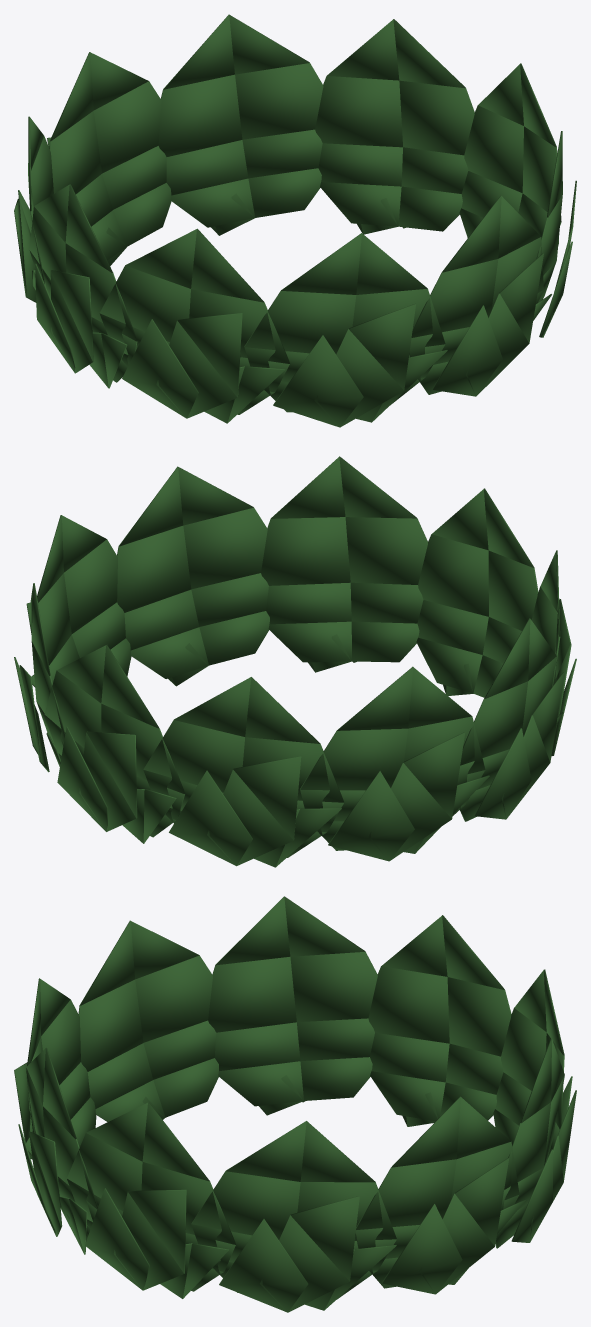
3 renders of one model, top to bottom at view 1: azimuth 30°, elevation 25°; view 2: azimuth 150°, elevation 25°; view 3: azimuth 270°, elevation 25°, orthographic.
Visible parts, largest first — view 1: Flower_024_Base_Material_0_001_007, Flower_024_Base_Material_0_001_002, Flower_024_Base_Material_0_001_008, Flower_024_Base_Material_0_001_009, Flower_024_Base_Material_0_001_006, Flower_024_Base_Material_0_001, Flower_024_Base_Material_0_001_005, Flower_024_Base_Material_0_001_003, Flower_024_Base_Material_0_001_004, Flower_024_Base_Material_0_001_001; view 2: Flower_024_Base_Material_0_001, Flower_024_Base_Material_0_001_001, Flower_024_Base_Material_0_001_006, Flower_024_Base_Material_0_001_004, Flower_024_Base_Material_0_001_008, Flower_024_Base_Material_0_001_007, Flower_024_Base_Material_0_001_005, Flower_024_Base_Material_0_001_003, Flower_024_Base_Material_0_001_002, Flower_024_Base_Material_0_001_009; view 3: Flower_024_Base_Material_0_001_005, Flower_024_Base_Material_0_001_003, Flower_024_Base_Material_0_001_004, Flower_024_Base_Material_0_001_009, Flower_024_Base_Material_0_001_001, Flower_024_Base_Material_0_001_002, Flower_024_Base_Material_0_001_007, Flower_024_Base_Material_0_001, Flower_024_Base_Material_0_001_006, Flower_024_Base_Material_0_001_008.
Part boxes in pixels (x1,y1,x2,y2): Flower_024_Base_Material_0_001_007: [158, 14, 323, 235]; Flower_024_Base_Material_0_001_002: [315, 19, 474, 234]; Flower_024_Base_Material_0_001_008: [244, 233, 447, 427]; Flower_024_Base_Material_0_001_009: [99, 228, 290, 423]; Flower_024_Base_Material_0_001_006: [47, 52, 171, 265]; Flower_024_Base_Material_0_001: [409, 195, 551, 396]; Flower_024_Base_Material_0_001_005: [29, 184, 137, 388]; Flower_024_Base_Material_0_001_003: [459, 63, 561, 238]; Flower_024_Base_Material_0_001_004: [14, 116, 53, 302]; Flower_024_Base_Material_0_001_001: [536, 131, 576, 337]; Flower_024_Base_Material_0_001: [261, 456, 427, 672]; Flower_024_Base_Material_0_001_001: [117, 466, 269, 686]; Flower_024_Base_Material_0_001_006: [143, 677, 344, 867]; Flower_024_Base_Material_0_001_004: [300, 666, 489, 861]; Flower_024_Base_Material_0_001_008: [416, 488, 538, 697]; Flower_024_Base_Material_0_001_007: [44, 645, 185, 843]; Flower_024_Base_Material_0_001_005: [457, 618, 564, 821]; Flower_024_Base_Material_0_001_003: [26, 515, 131, 687]; Flower_024_Base_Material_0_001_002: [14, 583, 65, 772]; Flower_024_Base_Material_0_001_009: [531, 550, 576, 756]; Flower_024_Base_Material_0_001_005: [208, 896, 377, 1115]; Flower_024_Base_Material_0_001_003: [191, 1121, 396, 1312]; Flower_024_Base_Material_0_001_004: [368, 915, 511, 1126]; Flower_024_Base_Material_0_001_009: [78, 920, 218, 1121]; Flower_024_Base_Material_0_001_001: [67, 1102, 236, 1298]; Flower_024_Base_Material_0_001_002: [355, 1096, 525, 1294]; Flower_024_Base_Material_0_001_007: [495, 1039, 576, 1248]; Flower_024_Base_Material_0_001: [18, 1047, 97, 1254]; Flower_024_Base_Material_0_001_006: [493, 969, 572, 1159]; Flower_024_Base_Material_0_001_008: [14, 978, 96, 1159].
Size of the model in its own units: 0.1951 by 0.0783 by 0.1953.
